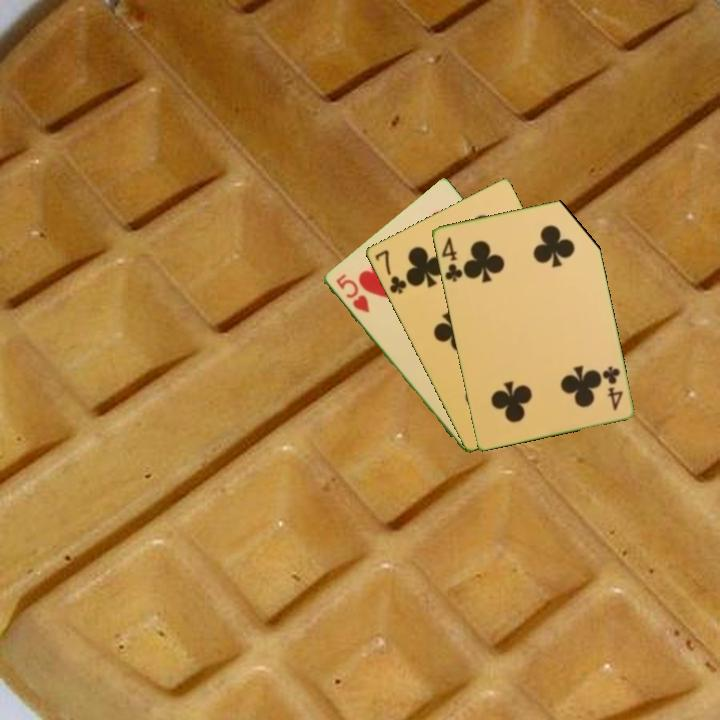4c: (438, 233, 465, 285), (599, 362, 626, 413)
5h: (332, 270, 373, 316)
7c: (371, 246, 409, 297)
